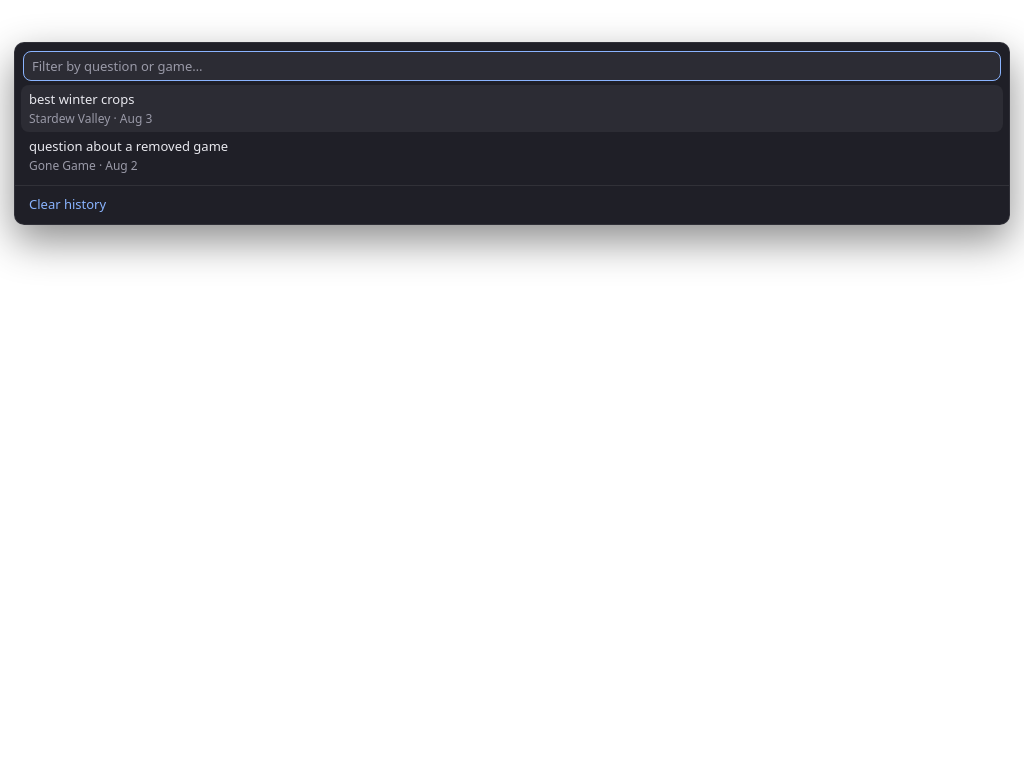
Test case: a rejected clear surfaces inline and the menu stays up
Click the button "Clear history" at (68, 204), box x1=21 y1=190 x2=1003 y2=218
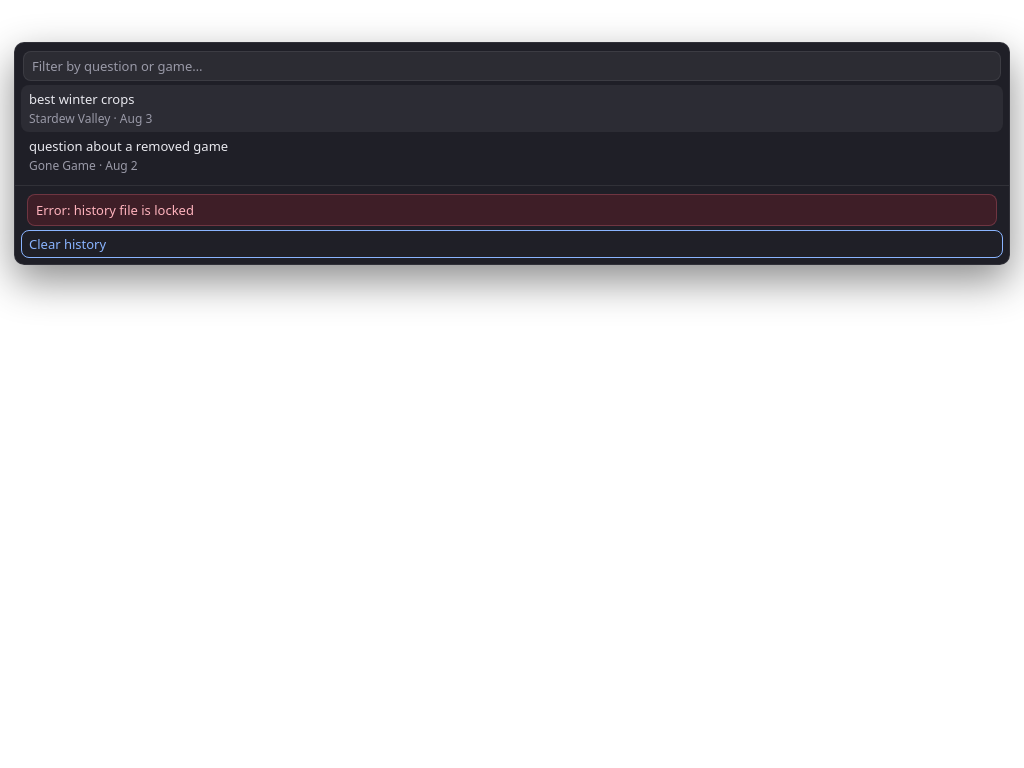
Expected: the dialog named "Answer history" is shown, x1=14 y1=42 x2=1010 y2=265
Result: the text "Error: history file is locked" is shown at x1=27 y1=194 x2=997 y2=226
